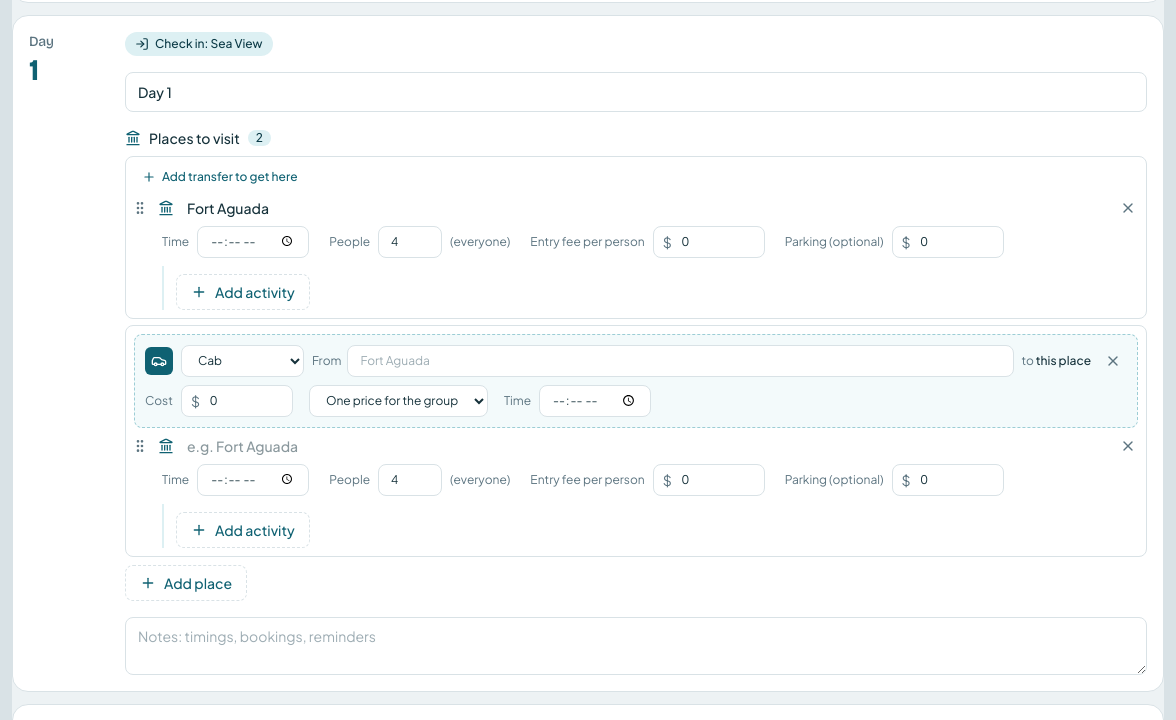
Test: Choosing a hotel as a stop or a transfer start › suggests hotels and the day's other places as where a transfer starts
(page scrolled)
Focus the dropdown named "Day 1 place 2 transfer from" at (680,360), box left=347, top=344, right=1014, bottom=376
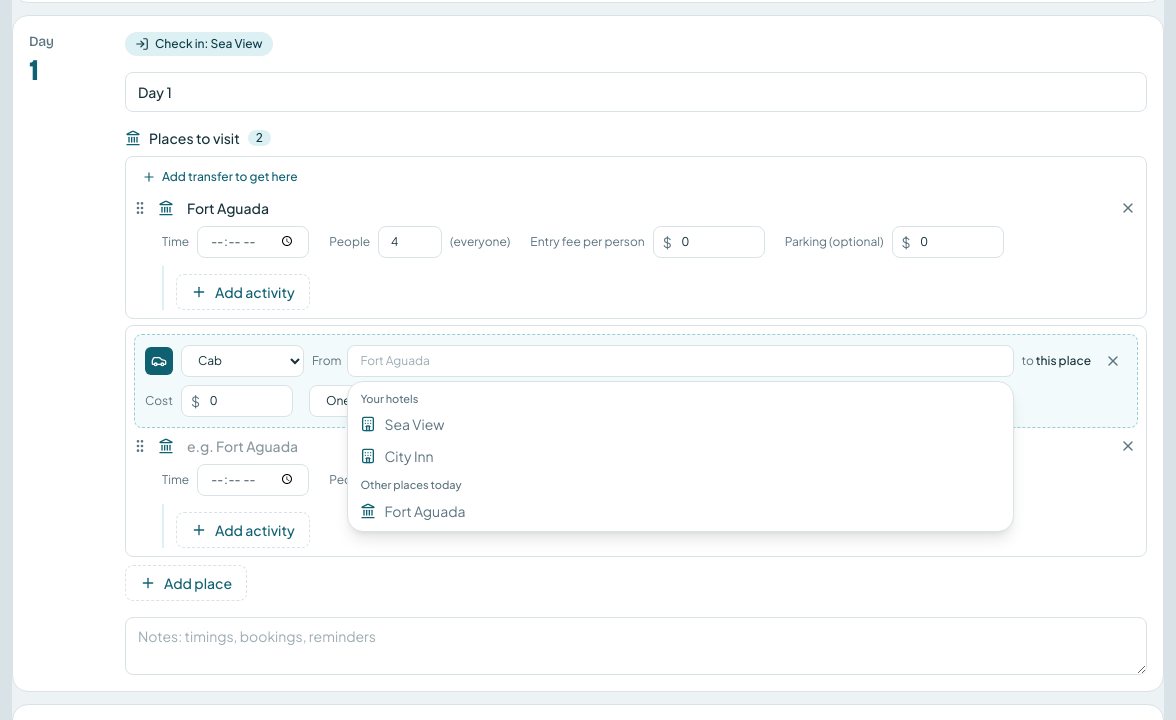
Now the text "Your hotels" is shown, box left=360, top=392, right=418, bottom=404
Now the text "Sea View" is shown, box left=384, top=414, right=444, bottom=434
Now the text "Other places today" is shown, box left=360, top=478, right=462, bottom=491
Press the mouse on the option "City Inn" at (397,456), box left=360, top=447, right=434, bottom=465
(page scrolled)
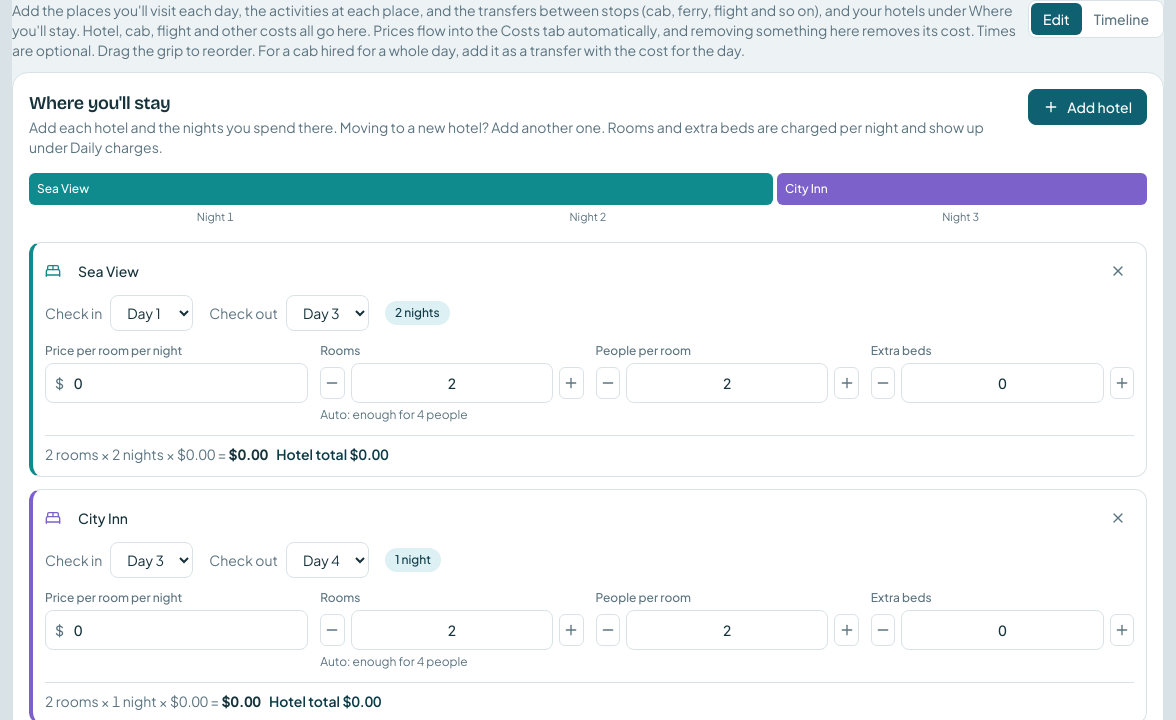
Expected: the text "City Inn" is shown, left=777, top=173, right=1147, bottom=205
Now the list "Your hotels Sea View City Inn Other places today Fort Aguada" is gone
